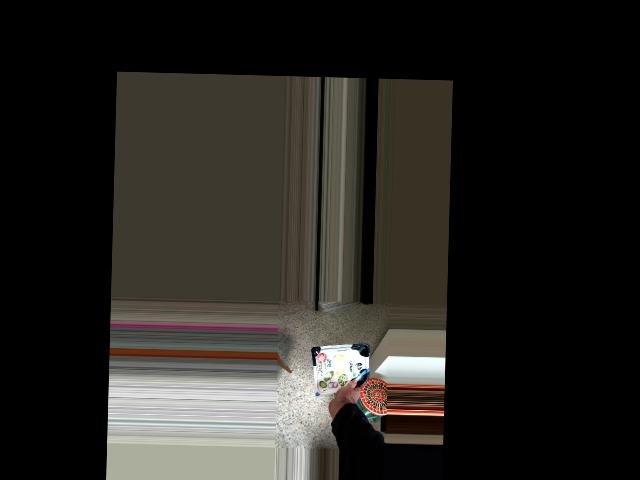cheese: (310, 354, 369, 415)
